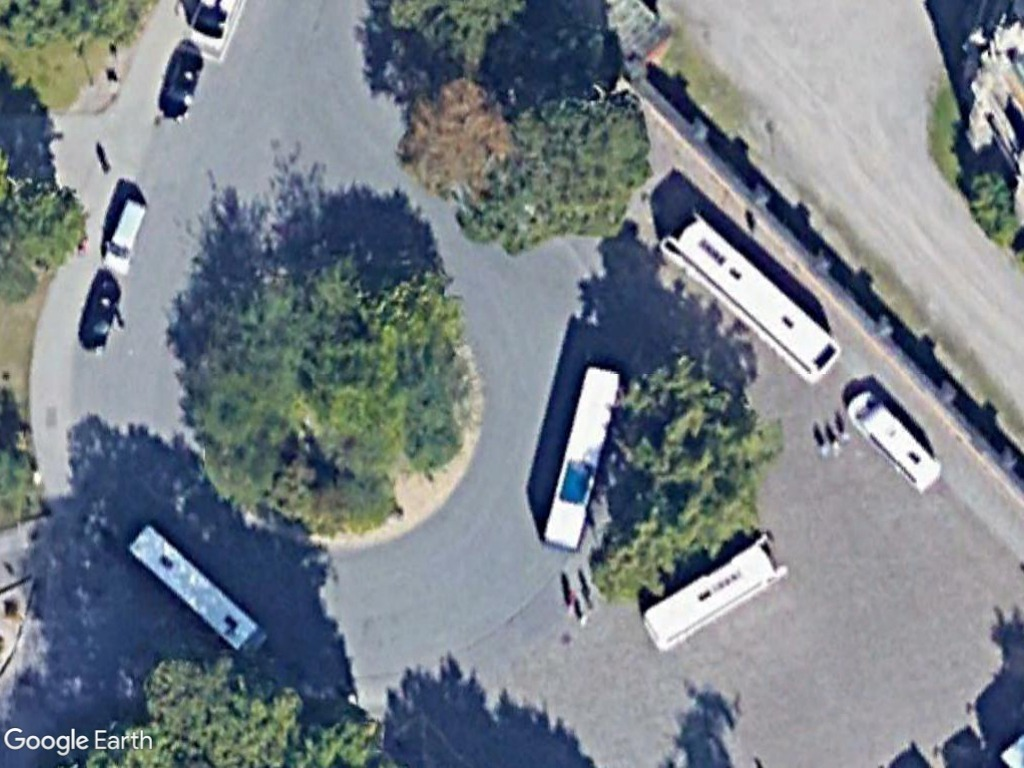bus: (652, 214, 840, 385), (119, 515, 269, 663), (532, 356, 625, 555)
car: (71, 267, 130, 361), (153, 40, 207, 126)
van: (846, 382, 953, 497), (97, 190, 150, 277)
